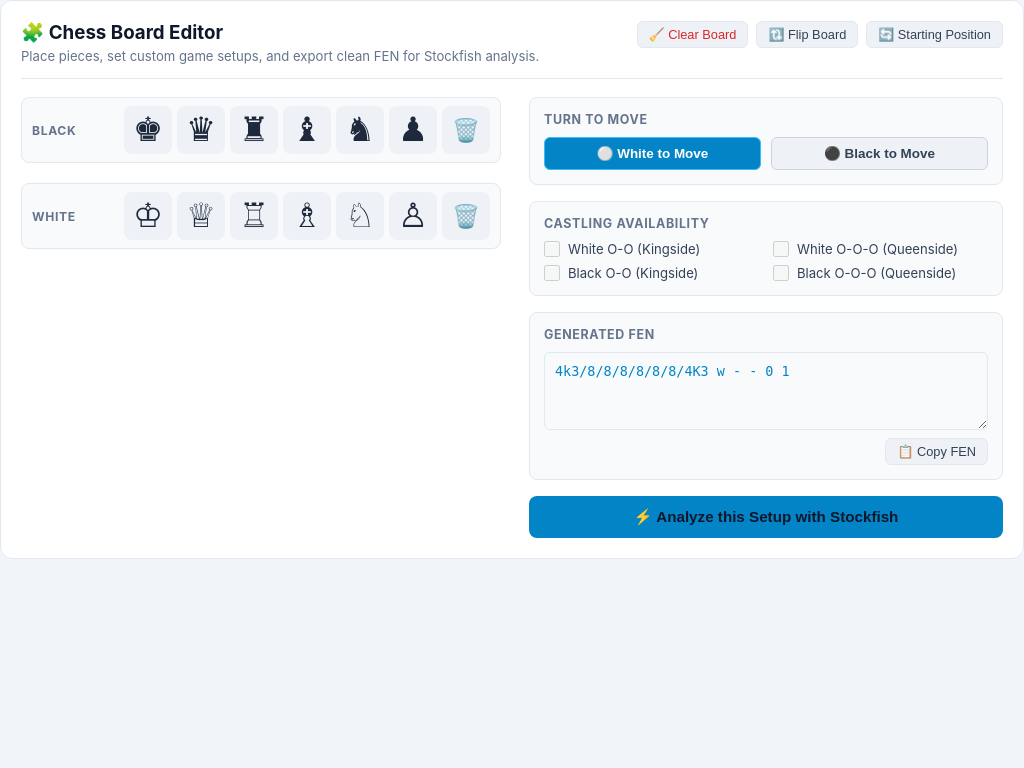
Test: BoardEditor placing pieces › places the selected piece on a clicked square
Click the button titled "Select White Queen": (201, 216) x1=177 y1=192 x2=225 y2=240
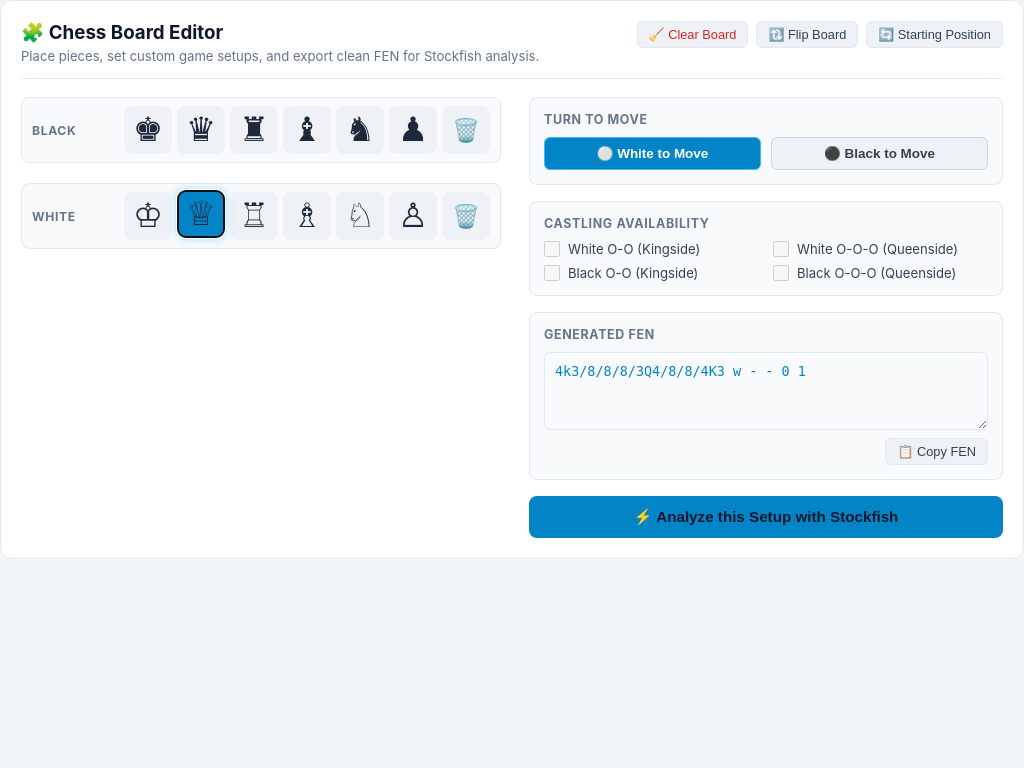
Result: the text box holds "4k3/8/8/8/3Q4/8/8/4K3 w - - 0 1" at x1=544 y1=352 x2=988 y2=430
